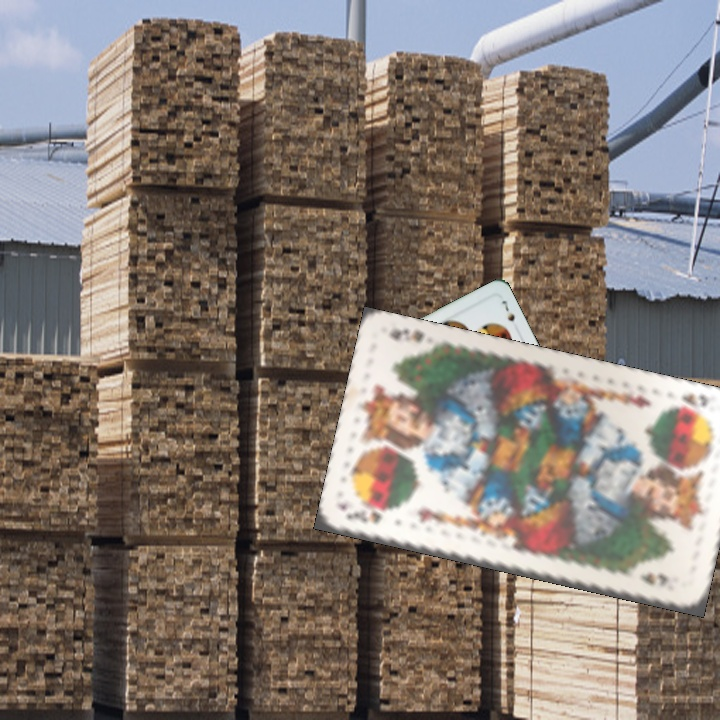SK: (665, 389, 711, 417), (342, 506, 385, 527)
